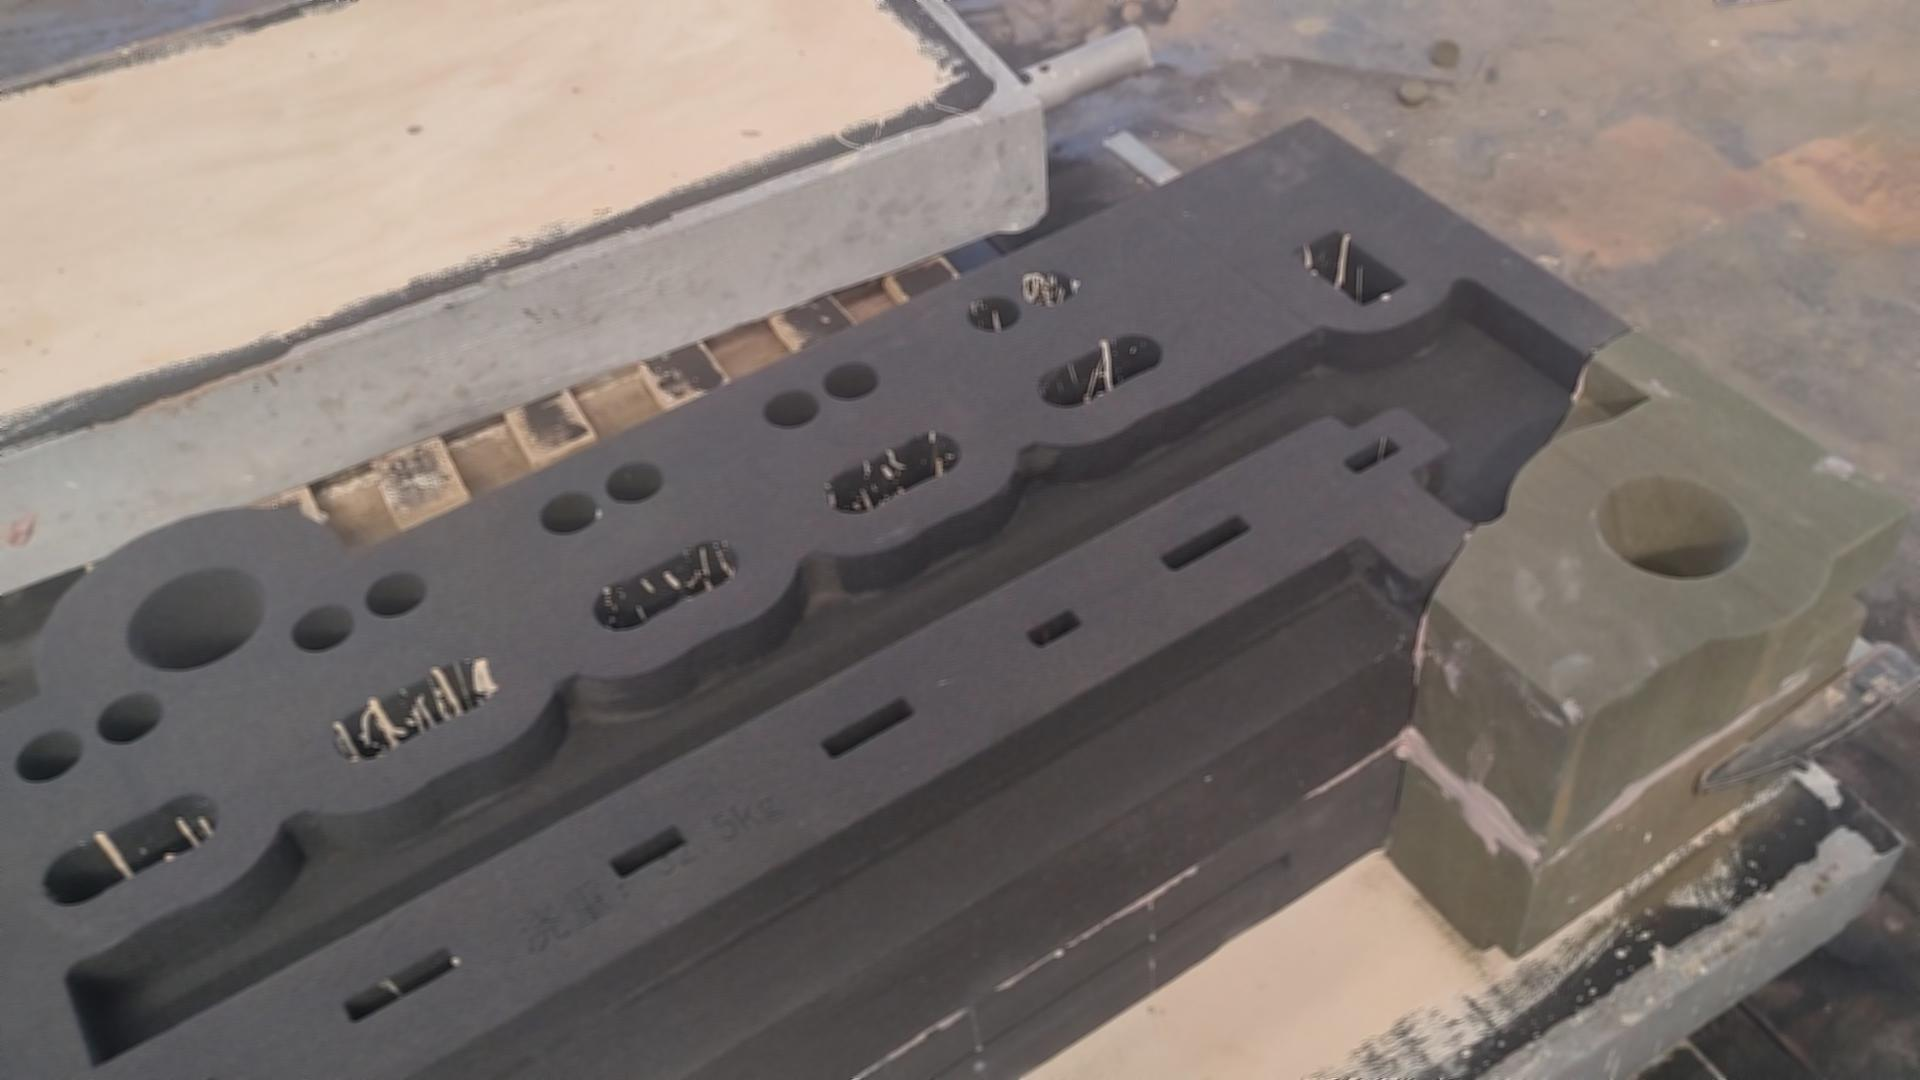pouring hole: (1596, 473, 1749, 579), (124, 566, 266, 670)
